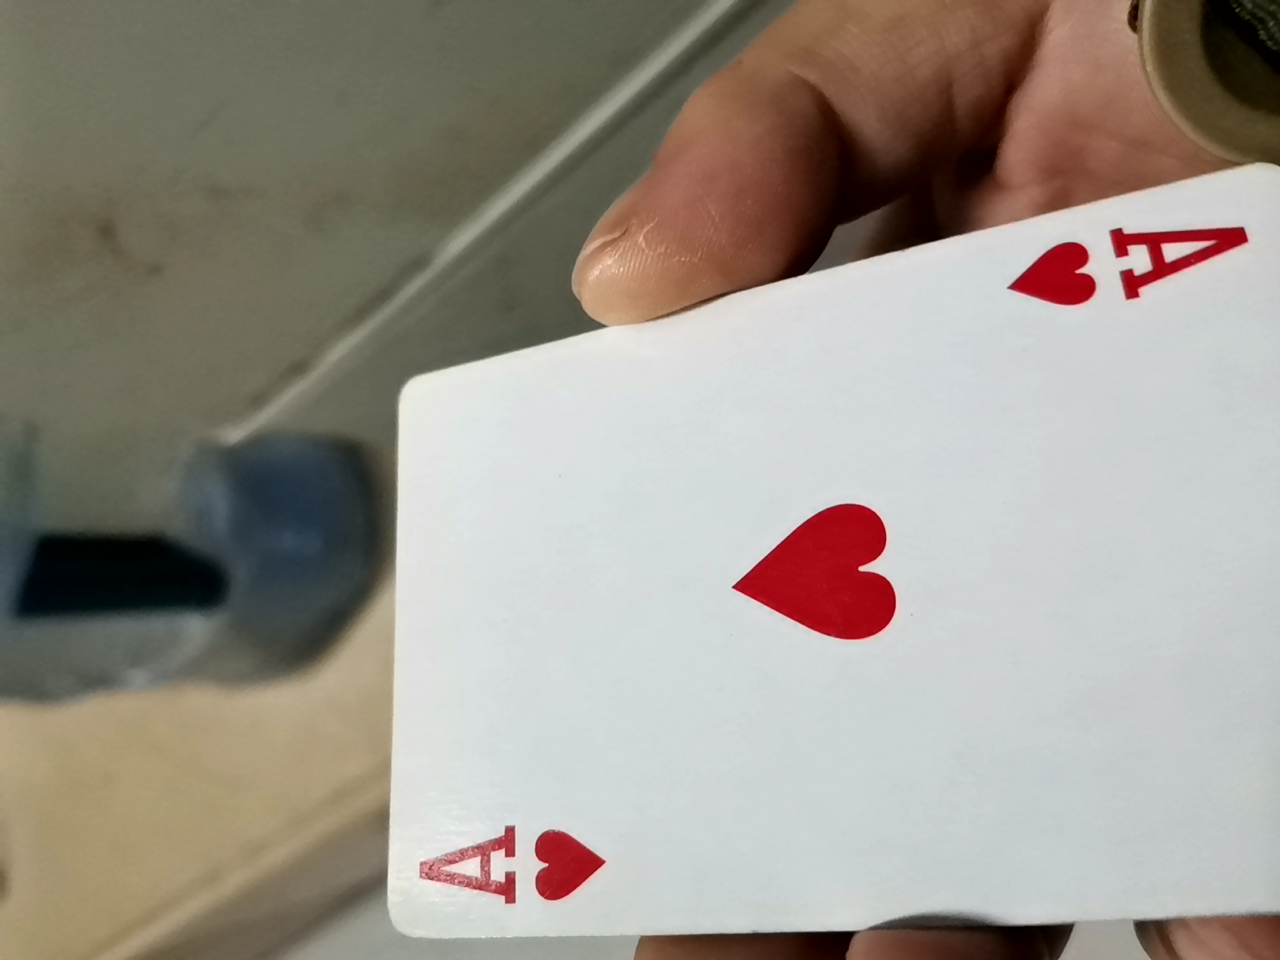hx a: (328, 178, 1267, 946)
